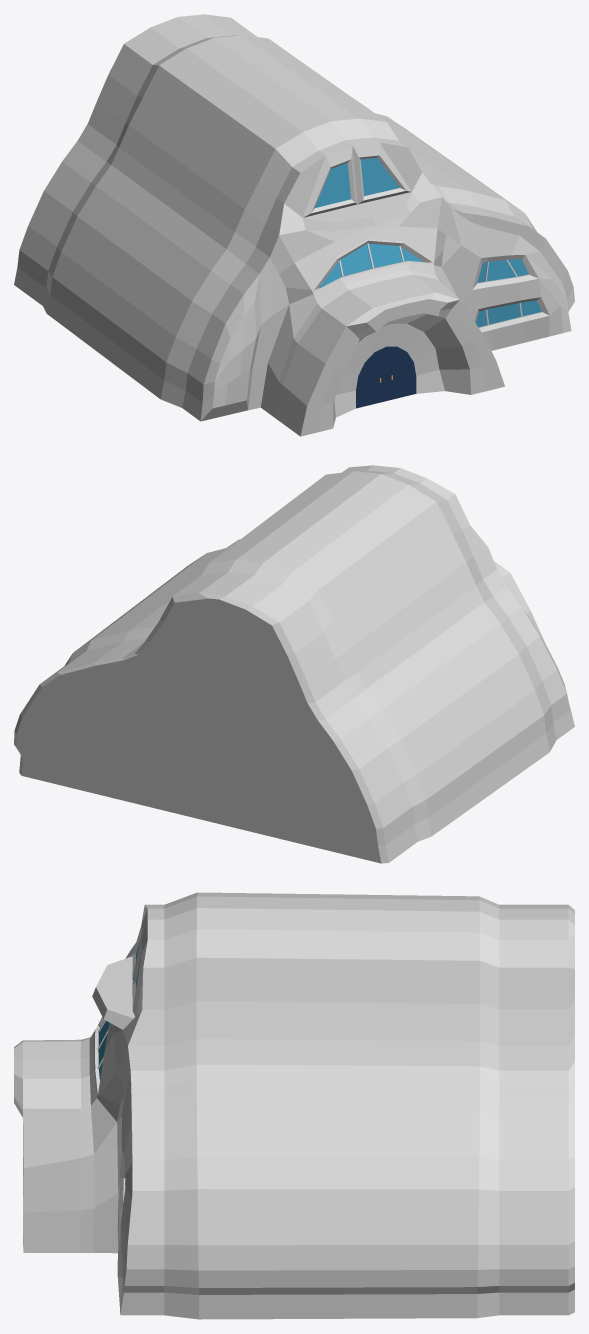
File: VRroom5.fbx
The picture shows the model from 3 angles, top to bottom: view 1: azimuth 30°, elevation 25°; view 2: azimuth 150°, elevation 25°; view 3: azimuth 270°, elevation 25°; orthographic projection. The views are drawn at different scales.
Parts seen in each view (by area): view 1: room, door.L, door.R; view 2: room; view 3: room.
Part boxes in pixels (bbox=[...]): room: bbox=[14, 14, 574, 436]; door.L: bbox=[356, 346, 386, 408]; door.R: bbox=[386, 346, 416, 400]; room: bbox=[14, 465, 574, 863]; room: bbox=[14, 892, 574, 1319].
Size of the model in its own units: 30710 by 17823 by 31780.
